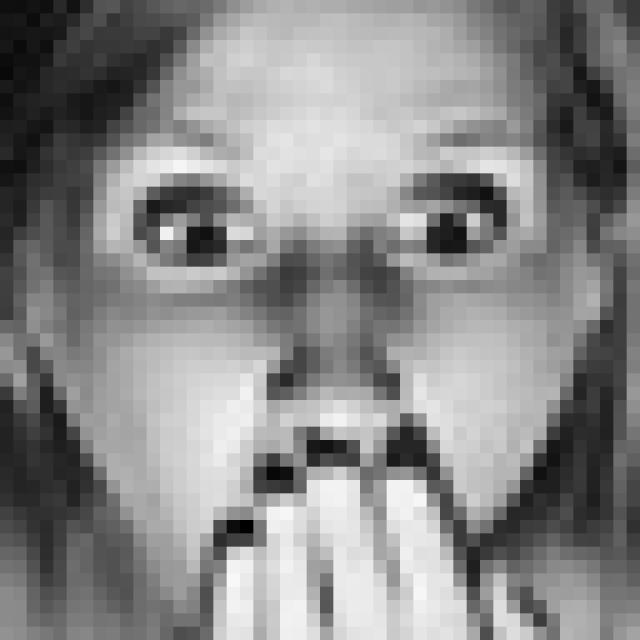fear: (105, 118, 556, 575)
